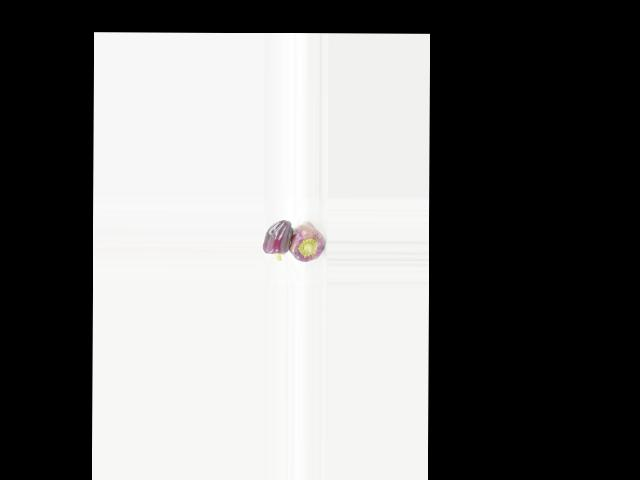bell_pepper: (288, 213, 326, 270)
